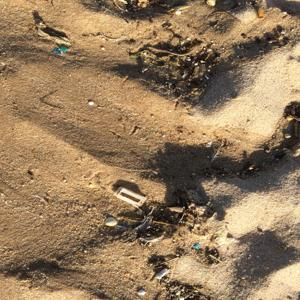plastic: (108, 179, 154, 212), (52, 40, 74, 62)
